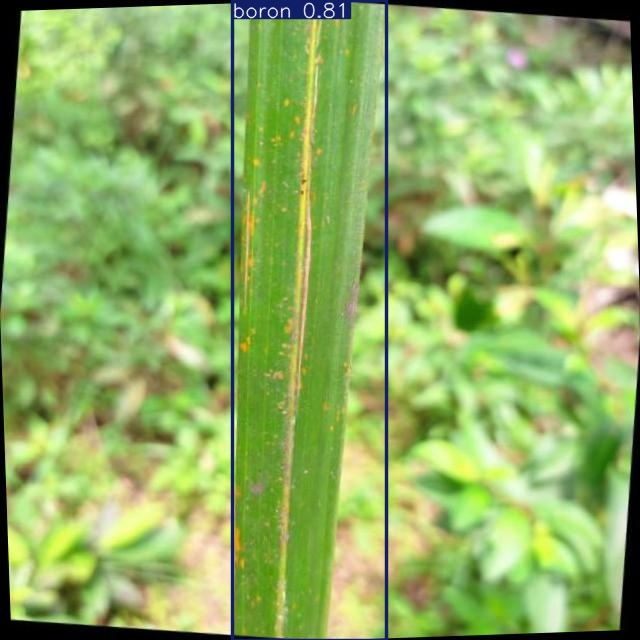nitrogen: (232, 1, 386, 640)
